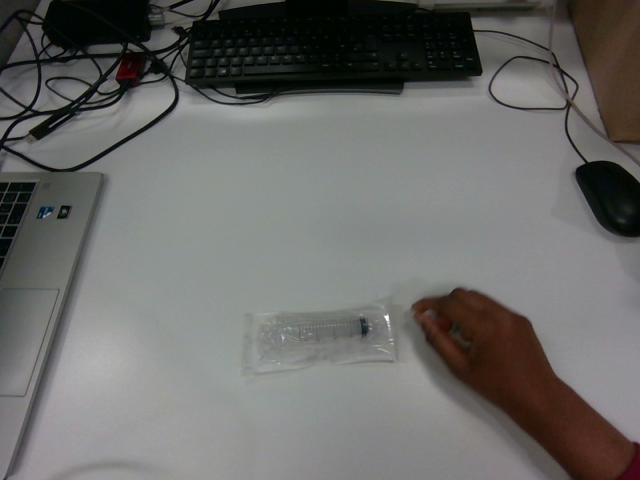syringe: (243, 303, 395, 373)
